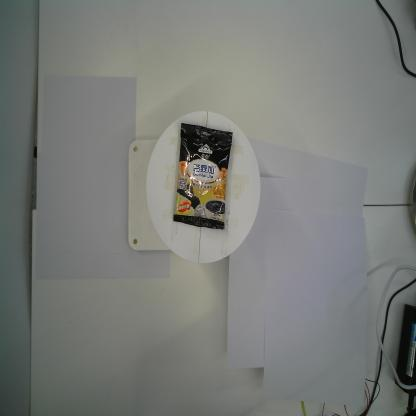Instant Drink: (172, 123, 232, 230)
